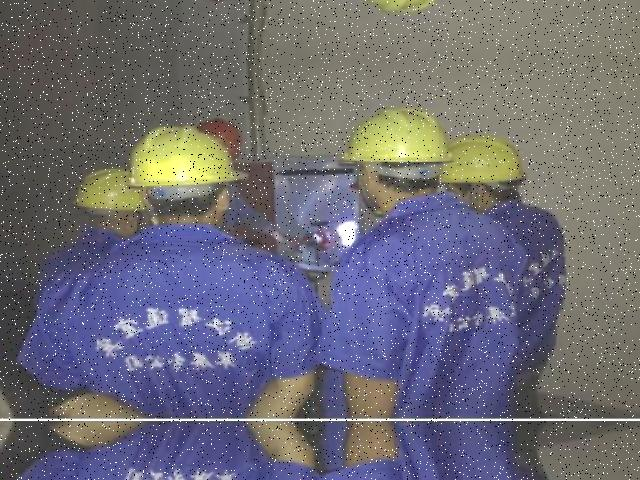Helmet: (128, 120, 262, 194), (341, 101, 459, 171), (440, 129, 534, 195), (68, 162, 156, 218)
